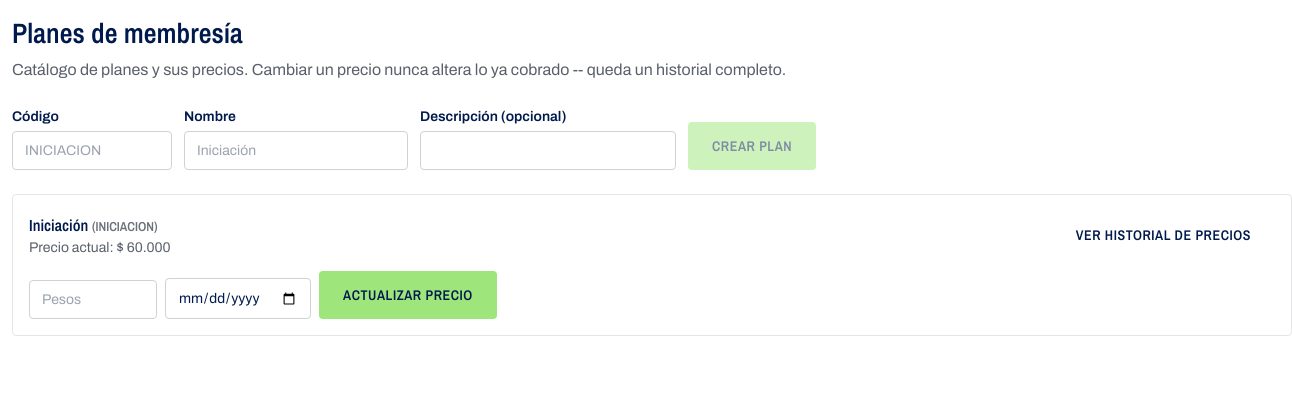
Test: PlansPage › shows price history when requested
The image size is (1292, 407).
Expected: the text "Iniciación" is shown, [29,214,88,236]
Click the button "Ver historial de precios" at (1163, 235), box [1052,211,1275,259]
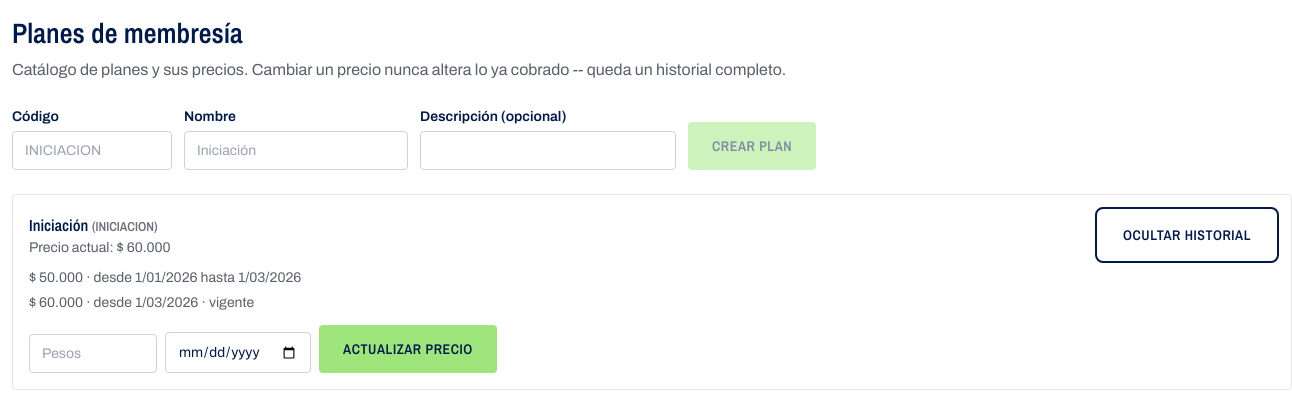
Expected: the list item "$ 60.000 · desde 1/03/2026 · vigente" is shown, [29,295,254,310]
